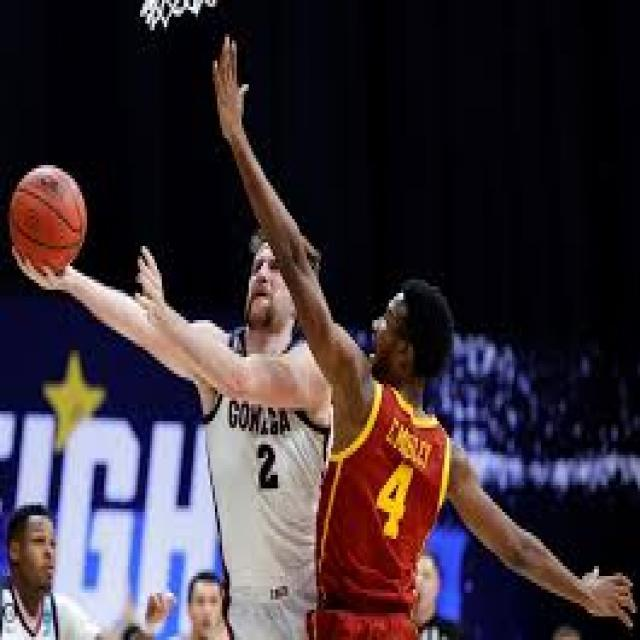rim: (9, 158, 88, 273)
